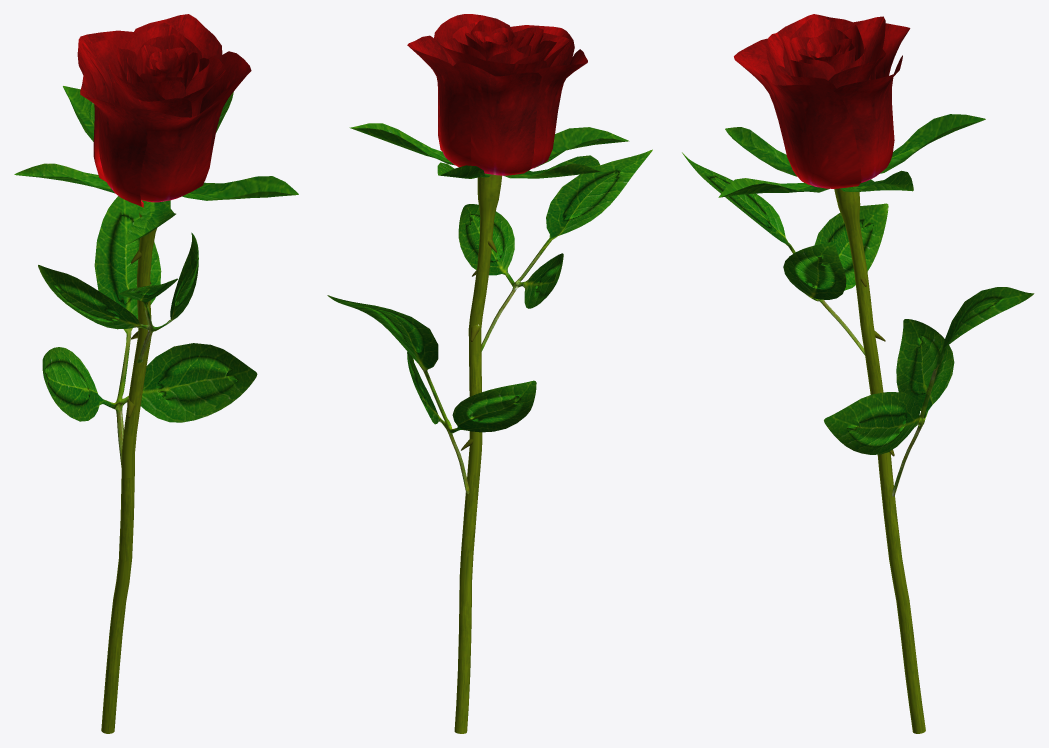
Rendered from rose1.fbx.
3 renders of one model, left to right at view 1: azimuth 30°, elevation 25°; view 2: azimuth 150°, elevation 25°; view 3: azimuth 270°, elevation 25°, orthographic. The views are drawn at different scales.
Visible parts, largest first — view 1: node_id4; view 2: node_id4; view 3: node_id4.
Boxes of the visible parts, x1,y1,x2,y2 form: node_id4: (14, 14, 298, 733); node_id4: (327, 14, 652, 733); node_id4: (682, 14, 1034, 733).
Bounding box in the file's own units: 0.1838 × 0.5107 × 0.2346.
1 material, 1 textured.
